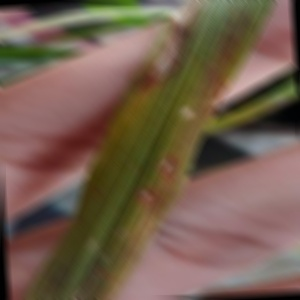Brown_Spot: (128, 35, 191, 83), (156, 0, 210, 42), (125, 184, 164, 209), (153, 155, 188, 181), (176, 100, 200, 123)
